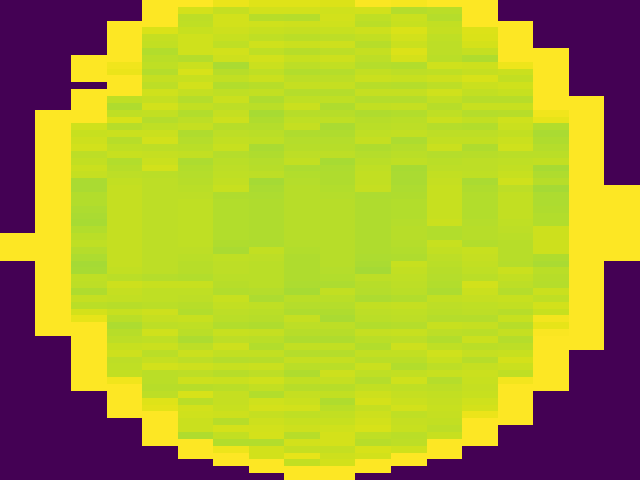sphere: (3, 1, 640, 480)
